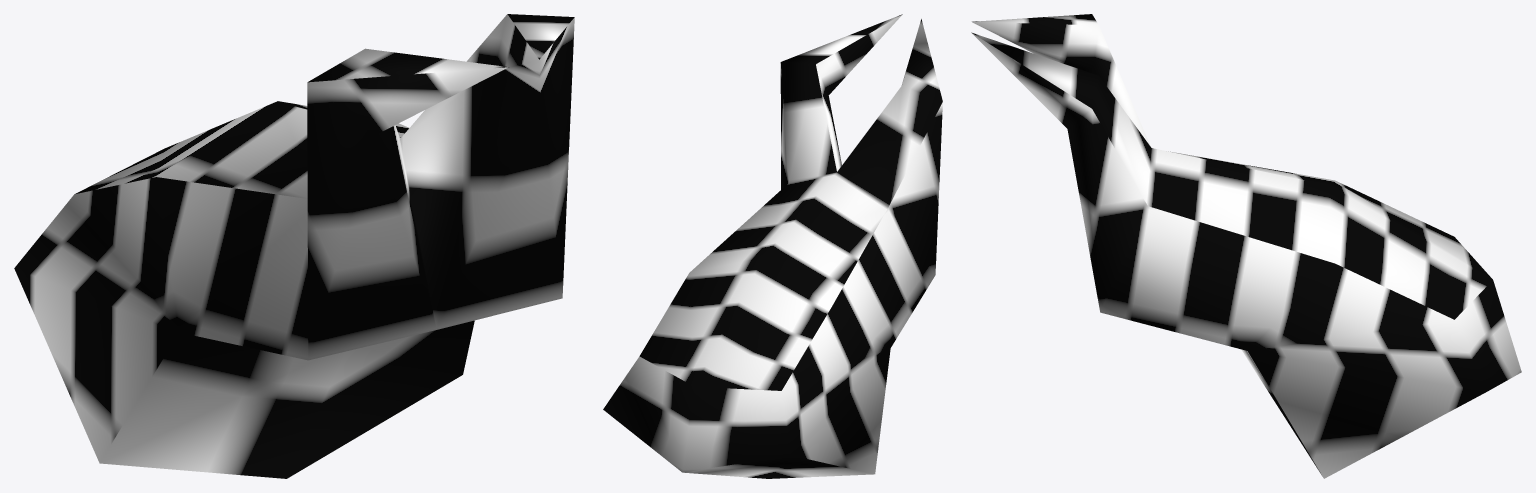
The model's file is infaunmosp.dae.
3 views of the same model, side by side, from view 1: azimuth 30°, elevation 25°; view 2: azimuth 150°, elevation 25°; view 3: azimuth 270°, elevation 25° (orthographic). The views are drawn at different scales.
Parts seen in each view (by area): view 1: face; view 2: face; view 3: face.
Part boxes in pixels (bbox=[...]): face: bbox=[14, 14, 574, 478]; face: bbox=[603, 14, 942, 478]; face: bbox=[971, 14, 1521, 478].
Bounding box in the file's own units: 0.9944 × 1.8 × 1.54.
Materials: 1 (1 with a texture image).
